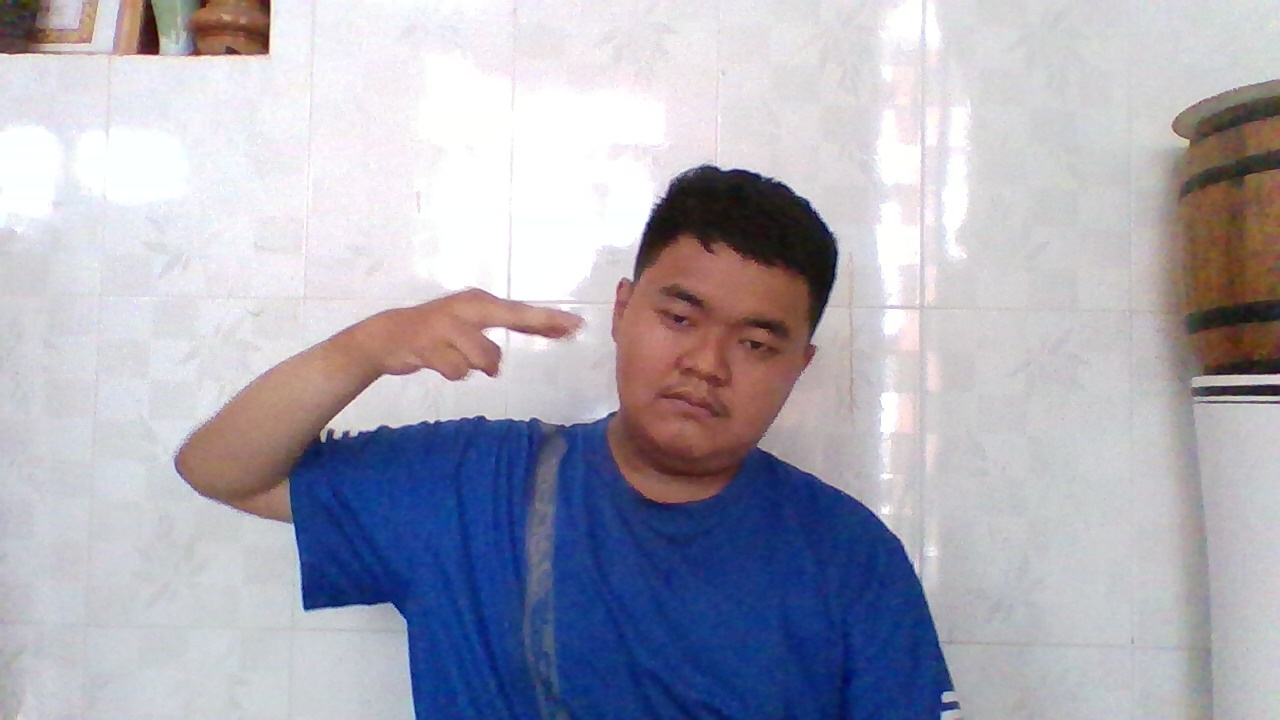R: (347, 280, 592, 390)
